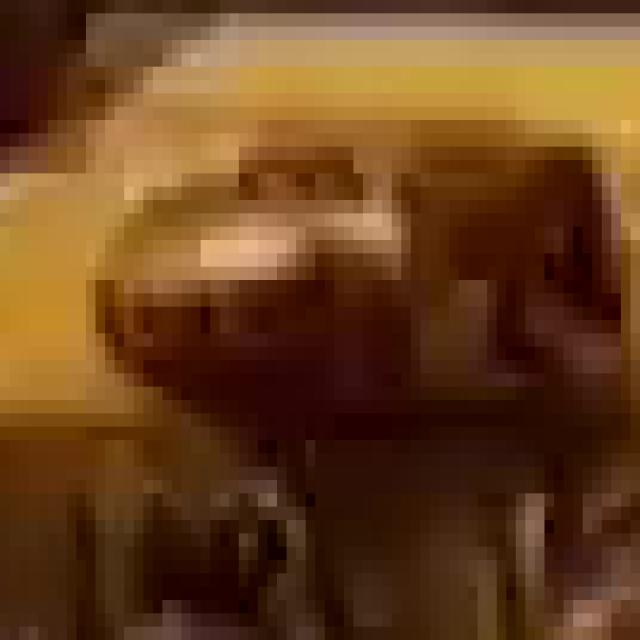honeybee: (93, 165, 596, 620)
